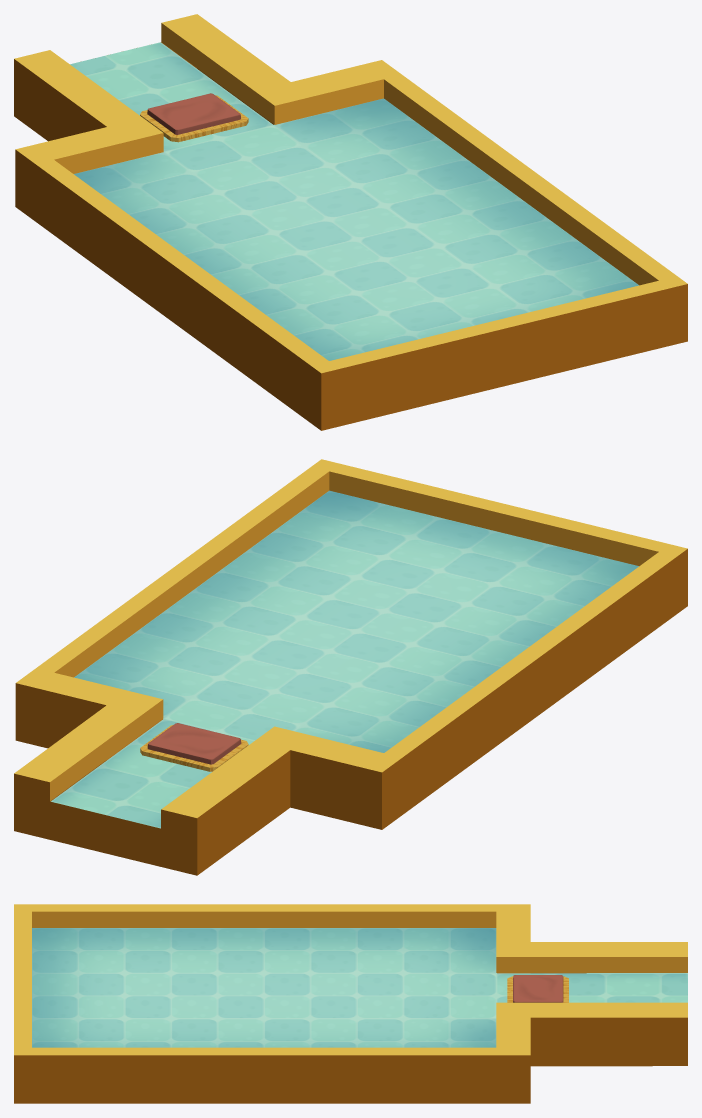
Rendered from Ground.FBX.
3 renders of one model, top to bottom at view 1: azimuth 30°, elevation 25°; view 2: azimuth 150°, elevation 25°; view 3: azimuth 270°, elevation 25°, orthographic. The views are drawn at different scales.
Parts seen in each view (by area): view 1: Ground, Door_Mat; view 2: Ground, Door_Mat; view 3: Ground, Door_Mat.
Boxes of the visible parts, x1,y1,x2,y2 form: Ground: [14, 14, 687, 430]; Door_Mat: [140, 93, 248, 142]; Ground: [14, 459, 687, 875]; Door_Mat: [140, 723, 248, 771]; Ground: [14, 904, 687, 1103]; Door_Mat: [507, 975, 568, 1002].
Bounding box in the file's own units: 10 × 1.5 × 18.86.
